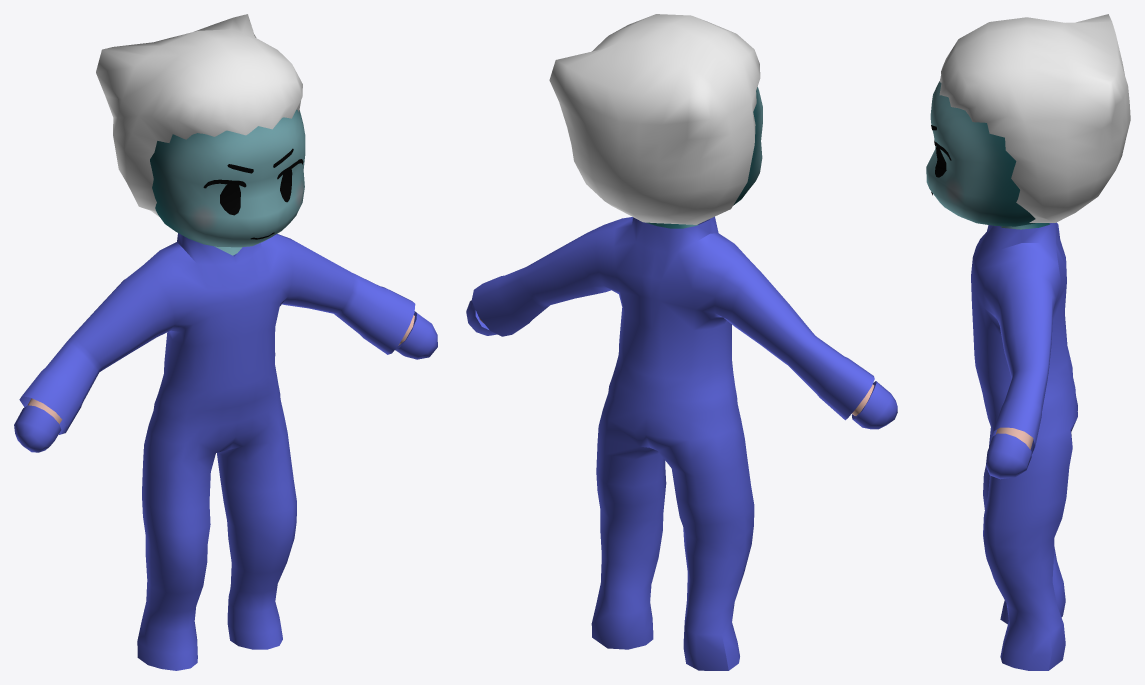
File: Ca48_team_model.fbx
The picture shows the model from 3 angles, left to right: view 1: azimuth 30°, elevation 25°; view 2: azimuth 150°, elevation 25°; view 3: azimuth 270°, elevation 25°; orthographic projection.
Visible parts, largest first — view 1: Iron_Team_Outfit.001, Ca_Hair, Ca_Head; view 2: Iron_Team_Outfit.001, Ca_Hair, Ca_Head; view 3: Iron_Team_Outfit.001, Ca_Hair, Ca_Head, Body.002.
Part boxes in pixels (box(x1,y1,x2,y2)): Iron_Team_Outfit.001: box(14, 233, 437, 670); Ca_Hair: box(96, 14, 302, 216); Ca_Head: box(150, 109, 305, 255); Iron_Team_Outfit.001: box(466, 216, 897, 670); Ca_Hair: box(549, 14, 760, 224); Ca_Head: box(646, 87, 762, 228); Iron_Team_Outfit.001: box(971, 222, 1077, 670); Ca_Hair: box(939, 14, 1130, 222); Ca_Head: box(926, 81, 1049, 229); Body.002: box(995, 427, 1033, 449).
Bounding box in the file's own units: 274 × 384 × 116.
